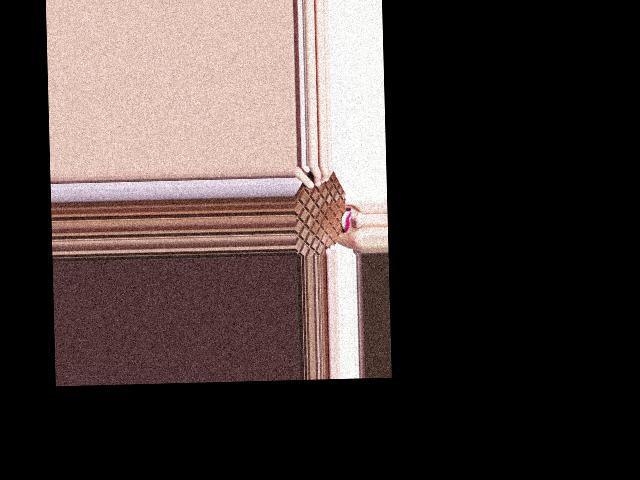chocolate: (293, 164, 349, 255)
